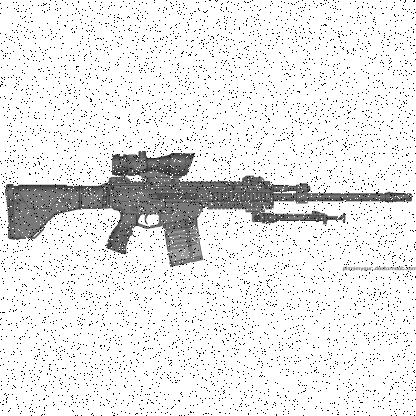gun: (6, 150, 410, 264)
